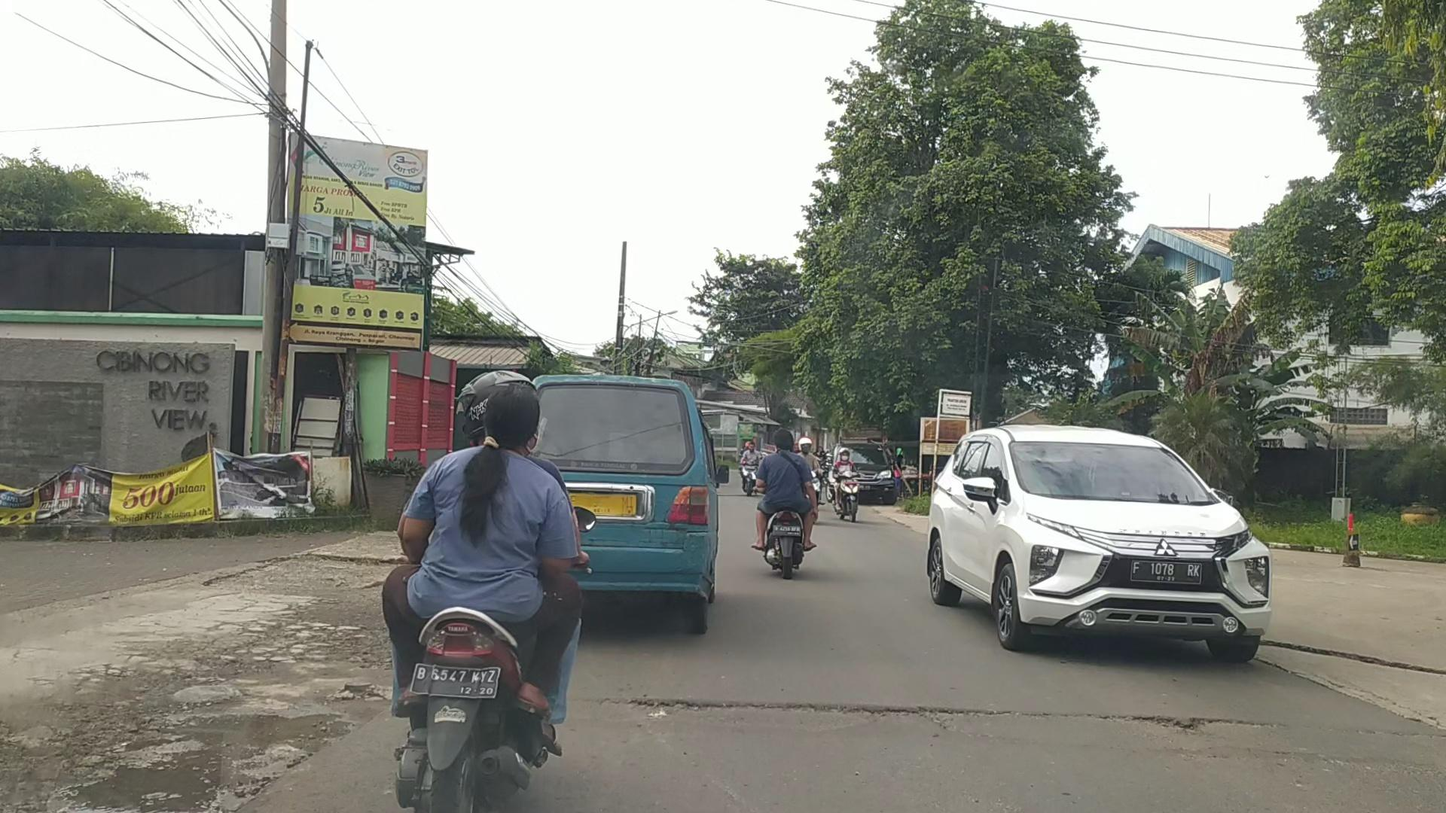pothole: (1119, 716, 1278, 735)
